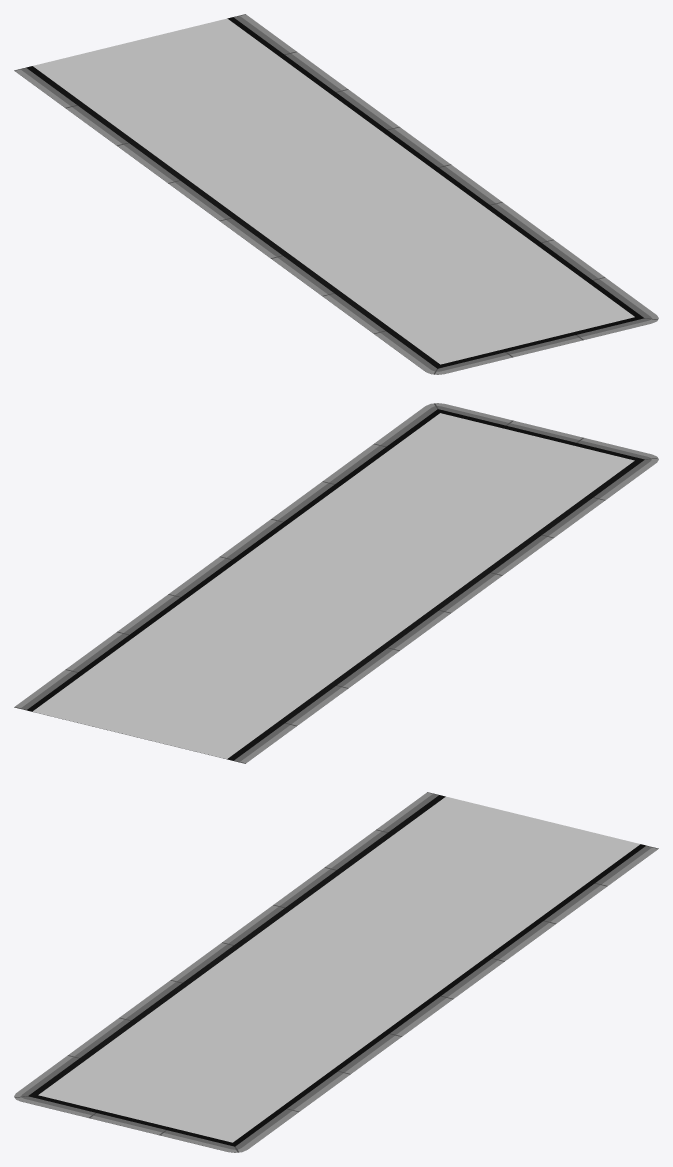
The model's file is Road2.fbx.
3 views of the same model, one above another, from view 1: azimuth 30°, elevation 25°; view 2: azimuth 150°, elevation 25°; view 3: azimuth 330°, elevation 25° (orthographic).
Visible parts, largest first — view 1: Cube.003; view 2: Cube.003; view 3: Cube.003.
Part boxes in pixels (box(x1,y1,x2,y2)): Cube.003: box(14, 14, 658, 374); Cube.003: box(14, 403, 658, 763); Cube.003: box(14, 792, 658, 1152).
Size of the model in its own units: 431 by 0.3179 by 1351.
